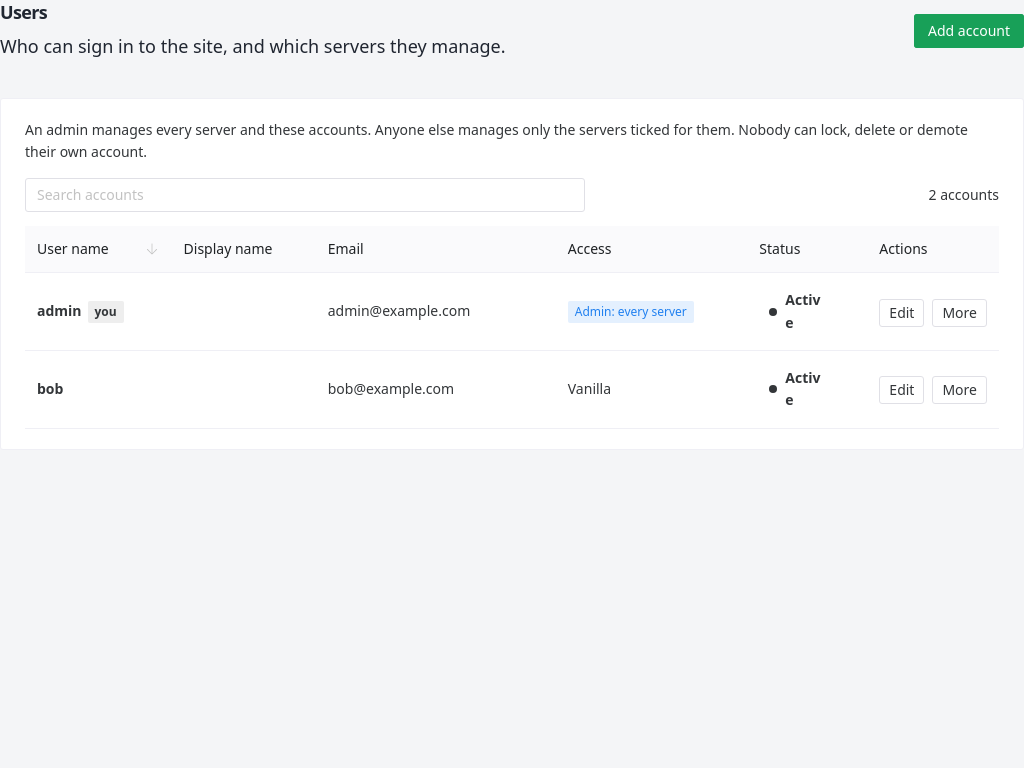
Scenario: UsersView › resets a password
The image size is (1024, 768).
Click the button "More" in the row of "bob@example.com" at [960, 390], box [932,376,987,404]
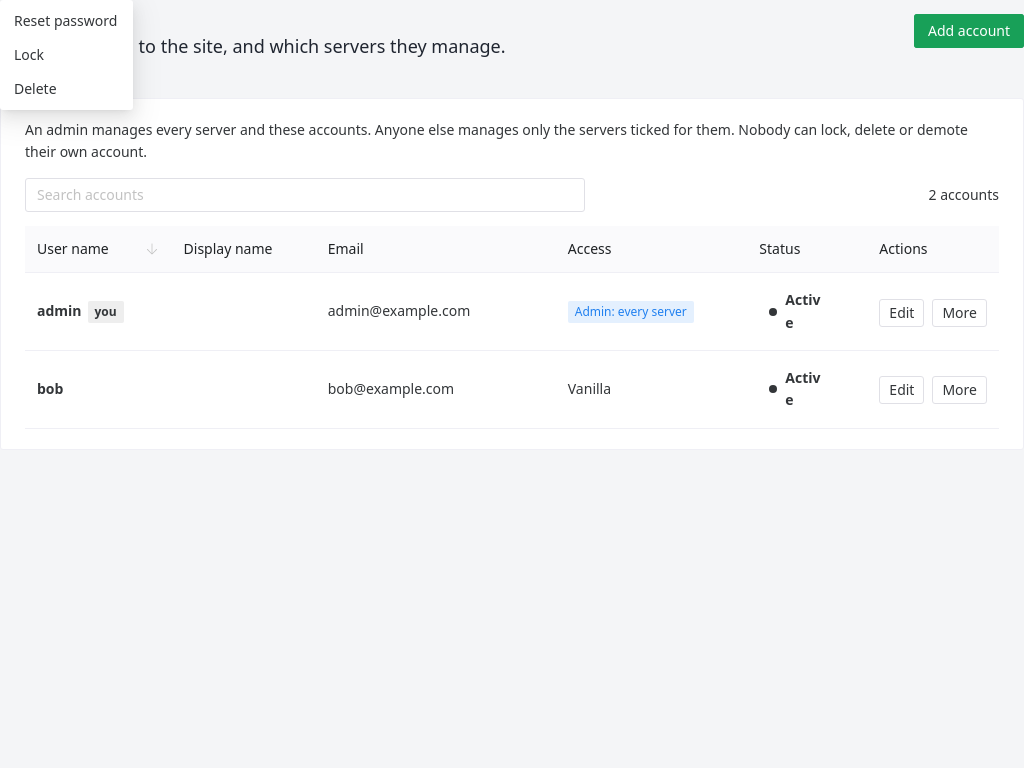
Click the element with class "n-dropdown-option-body" showing "Reset password" at [66, 20], box [14,11,117,30]
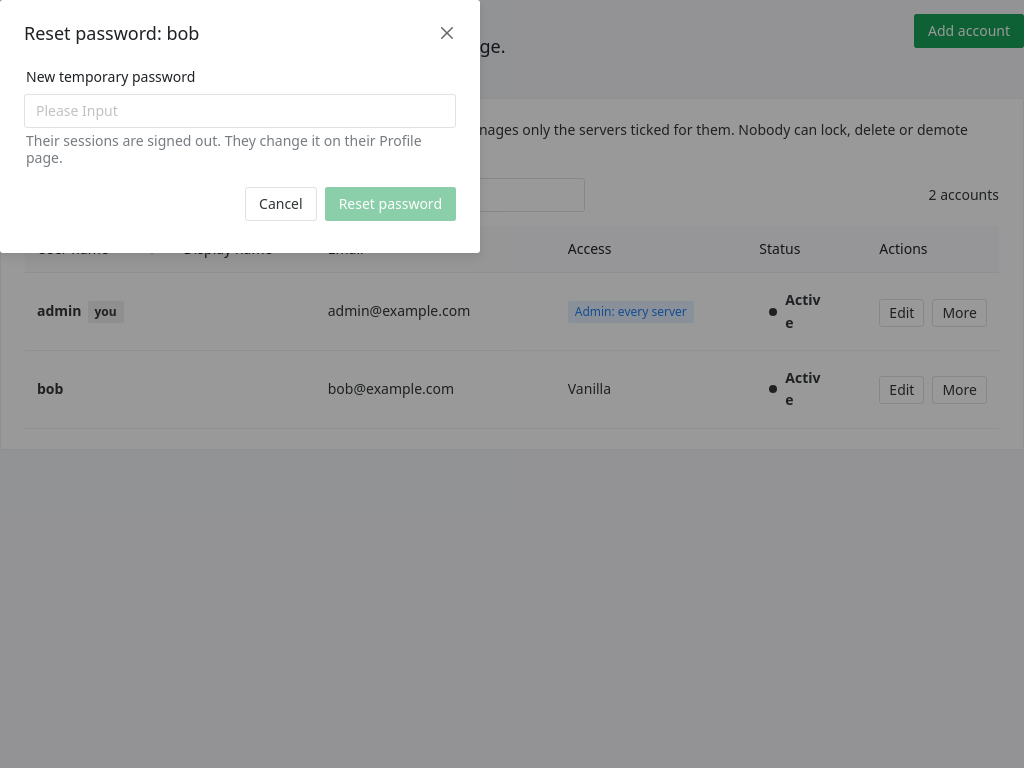
Type "another-temp-1" into the password field named "New temporary password" at [240, 111], box [36,94,444,128]
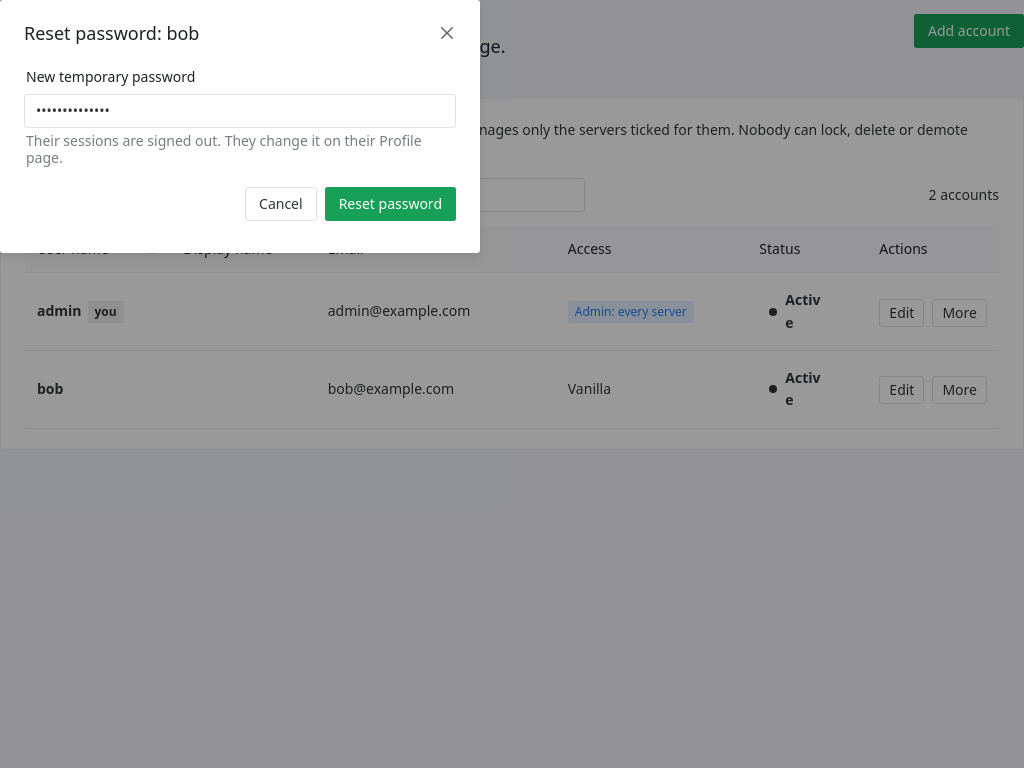
Click the button "Reset password" at [390, 204], box [325,187,456,221]
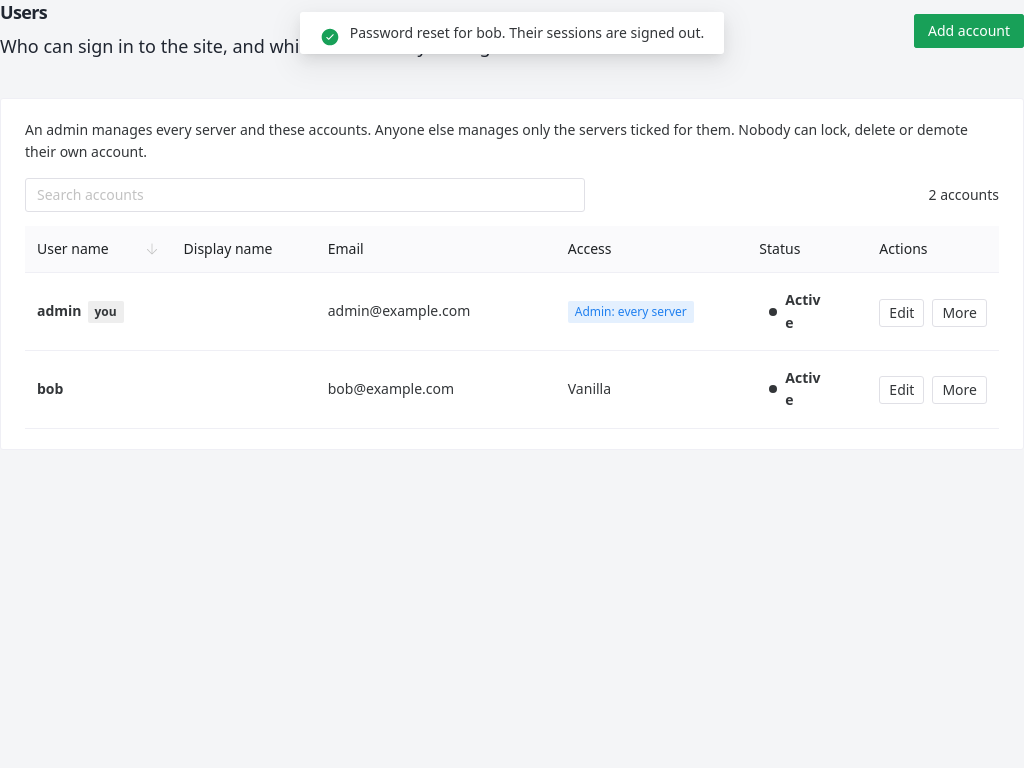
Result: the text "Password reset for bob." is shown at [350,23,704,42]
